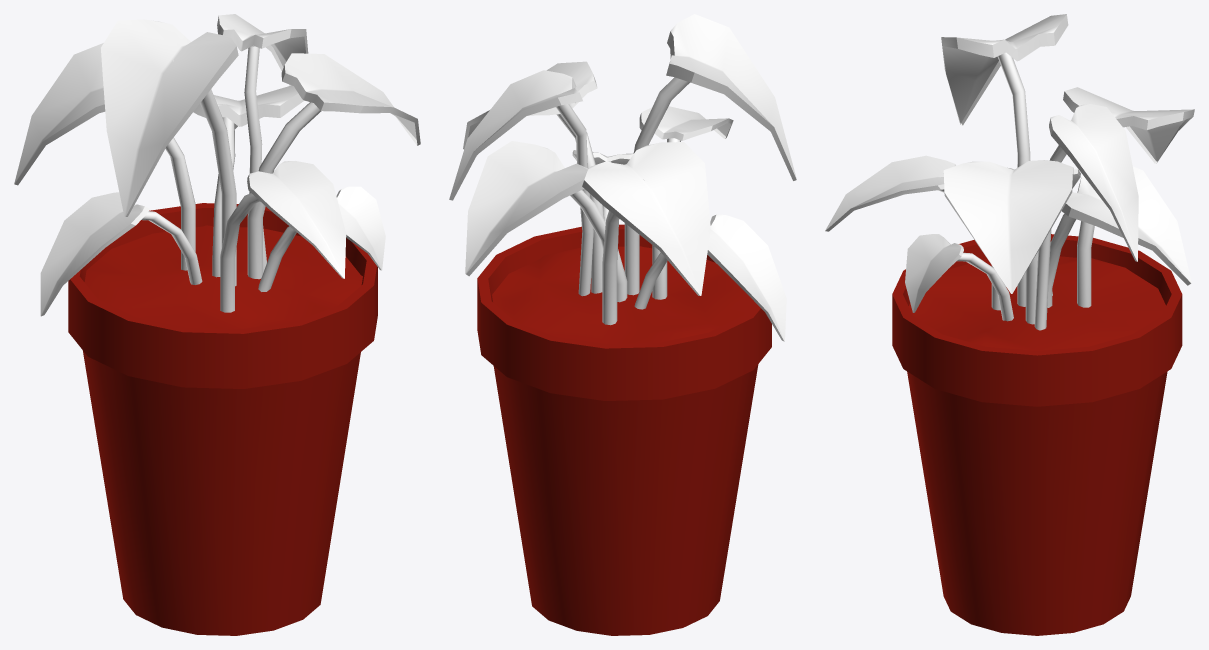
The model's file is SM_Plant_02.fbx.
3 views of the same model, side by side, from view 1: azimuth 30°, elevation 25°; view 2: azimuth 150°, elevation 25°; view 3: azimuth 270°, elevation 25° (orthographic). The views are drawn at different scales.
Visible parts, largest first — view 1: SM_Plant_02; view 2: SM_Plant_02; view 3: SM_Plant_02.
Part boxes in pixels (bbox=[...]): SM_Plant_02: bbox=[14, 14, 420, 635]; SM_Plant_02: bbox=[449, 14, 796, 635]; SM_Plant_02: bbox=[825, 14, 1194, 635].
Bounding box in the file's own units: 20.09 × 31.42 × 19.31.
